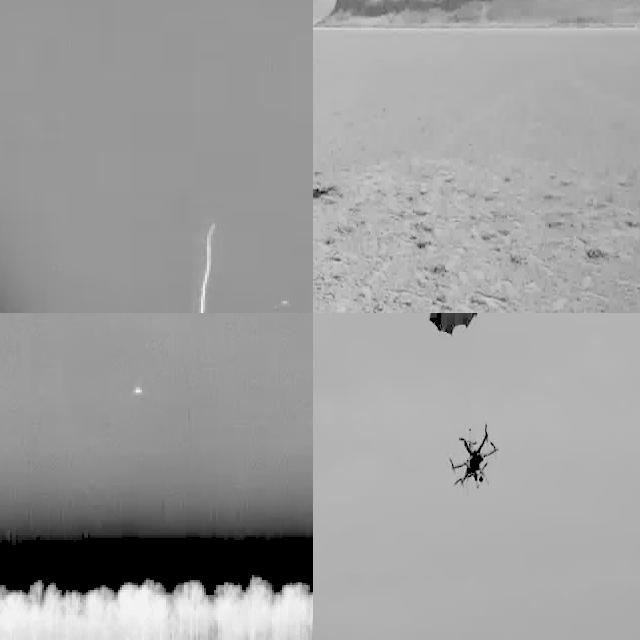0: (274, 292, 302, 313)
1: (127, 376, 159, 412)
drone: (444, 418, 500, 497)
